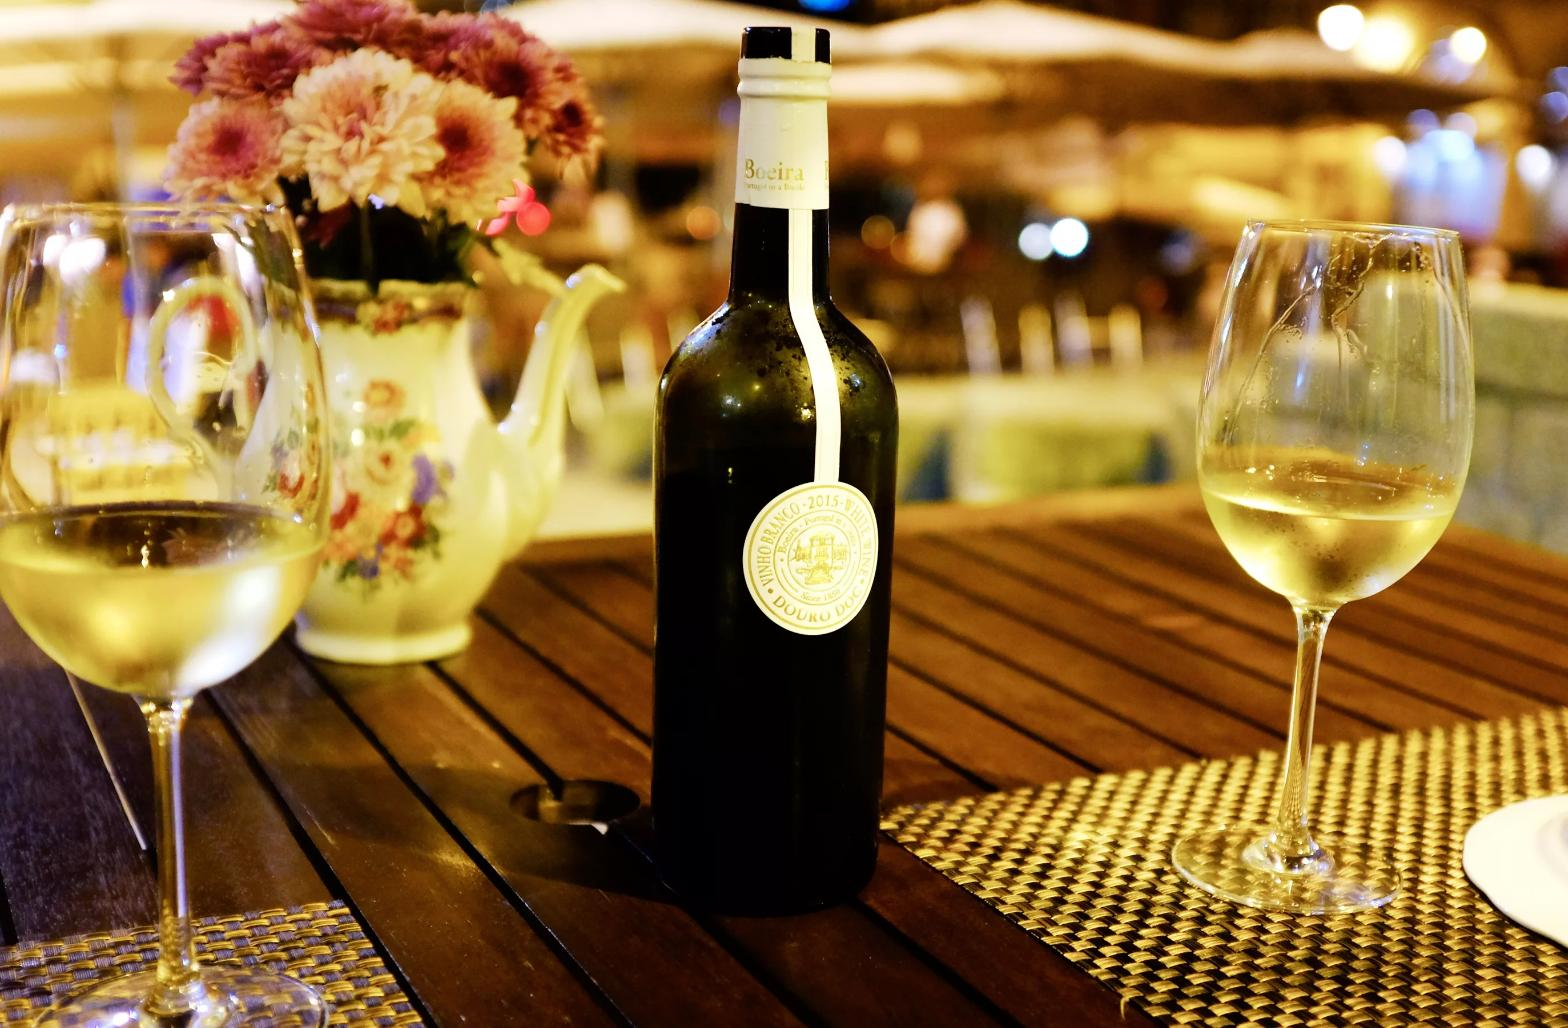wine bottle: (649, 29, 898, 916)
wine label: (741, 480, 880, 637)
